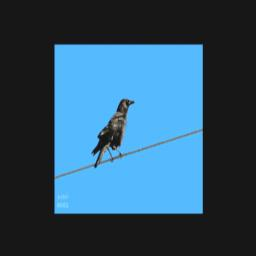Crow: (91, 97, 137, 169)
